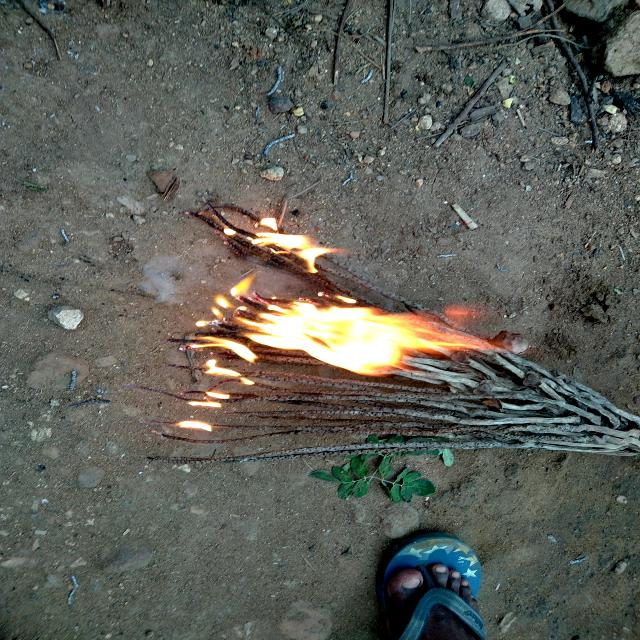helmet: (188, 303, 512, 373), (218, 212, 337, 274)
